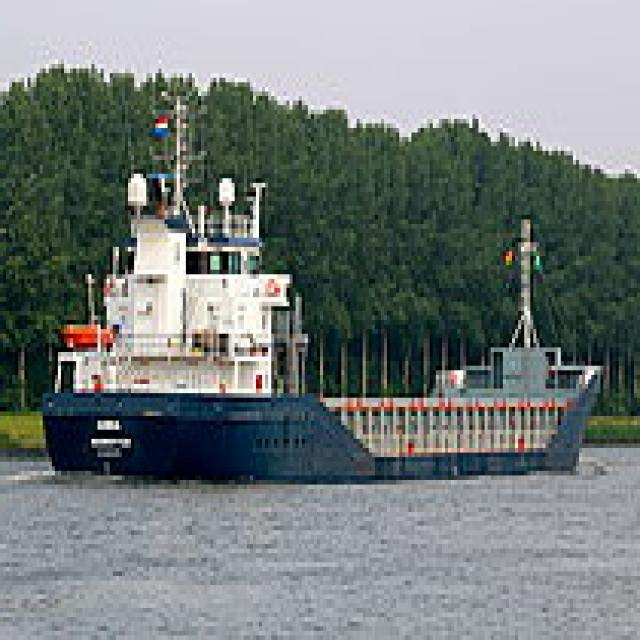Cargo: (42, 82, 610, 485)
